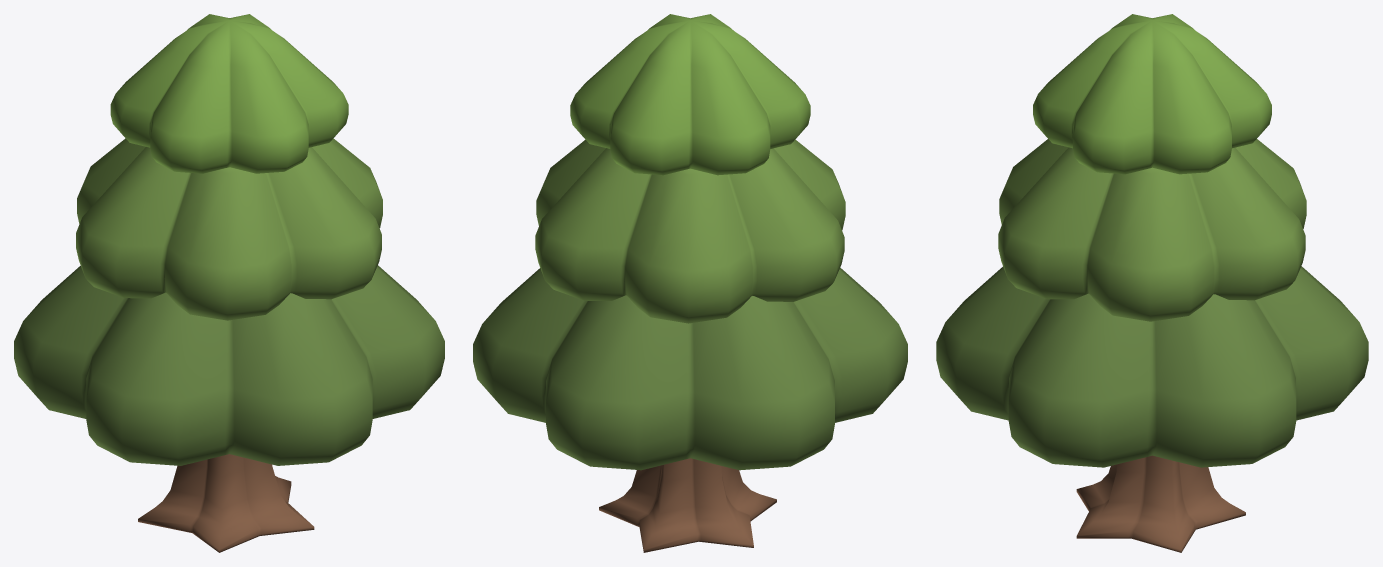
The model's file is tree 1.fbx.
The picture shows the model from 3 angles, left to right: view 1: azimuth 30°, elevation 25°; view 2: azimuth 150°, elevation 25°; view 3: azimuth 270°, elevation 25°; orthographic projection.
Parts seen in each view (by area): view 1: pine leaves, pine leaves.001, pine leaves.002, pine trunk; view 2: pine leaves, pine leaves.001, pine leaves.002, pine trunk; view 3: pine leaves, pine leaves.001, pine leaves.002, pine trunk.
Part boxes in pixels (left/top/right/bottom): pine leaves: left=14, top=265, right=444, bottom=465; pine leaves.001: left=76, top=138, right=382, bottom=320; pine leaves.002: left=110, top=14, right=348, bottom=173; pine trunk: left=138, top=454, right=314, bottom=552; pine leaves: left=473, top=267, right=907, bottom=470; pine leaves.001: left=535, top=139, right=845, bottom=323; pine leaves.002: left=570, top=14, right=810, bottom=175; pine trunk: left=599, top=458, right=776, bottom=552; pine leaves: left=936, top=266, right=1368, bottom=467; pine leaves.001: left=998, top=139, right=1306, bottom=321; pine leaves.002: left=1033, top=14, right=1271, bottom=174; pine trunk: left=1076, top=455, right=1245, bottom=552.
Size of the model in its own units: 2218 by 3084 by 2440.
